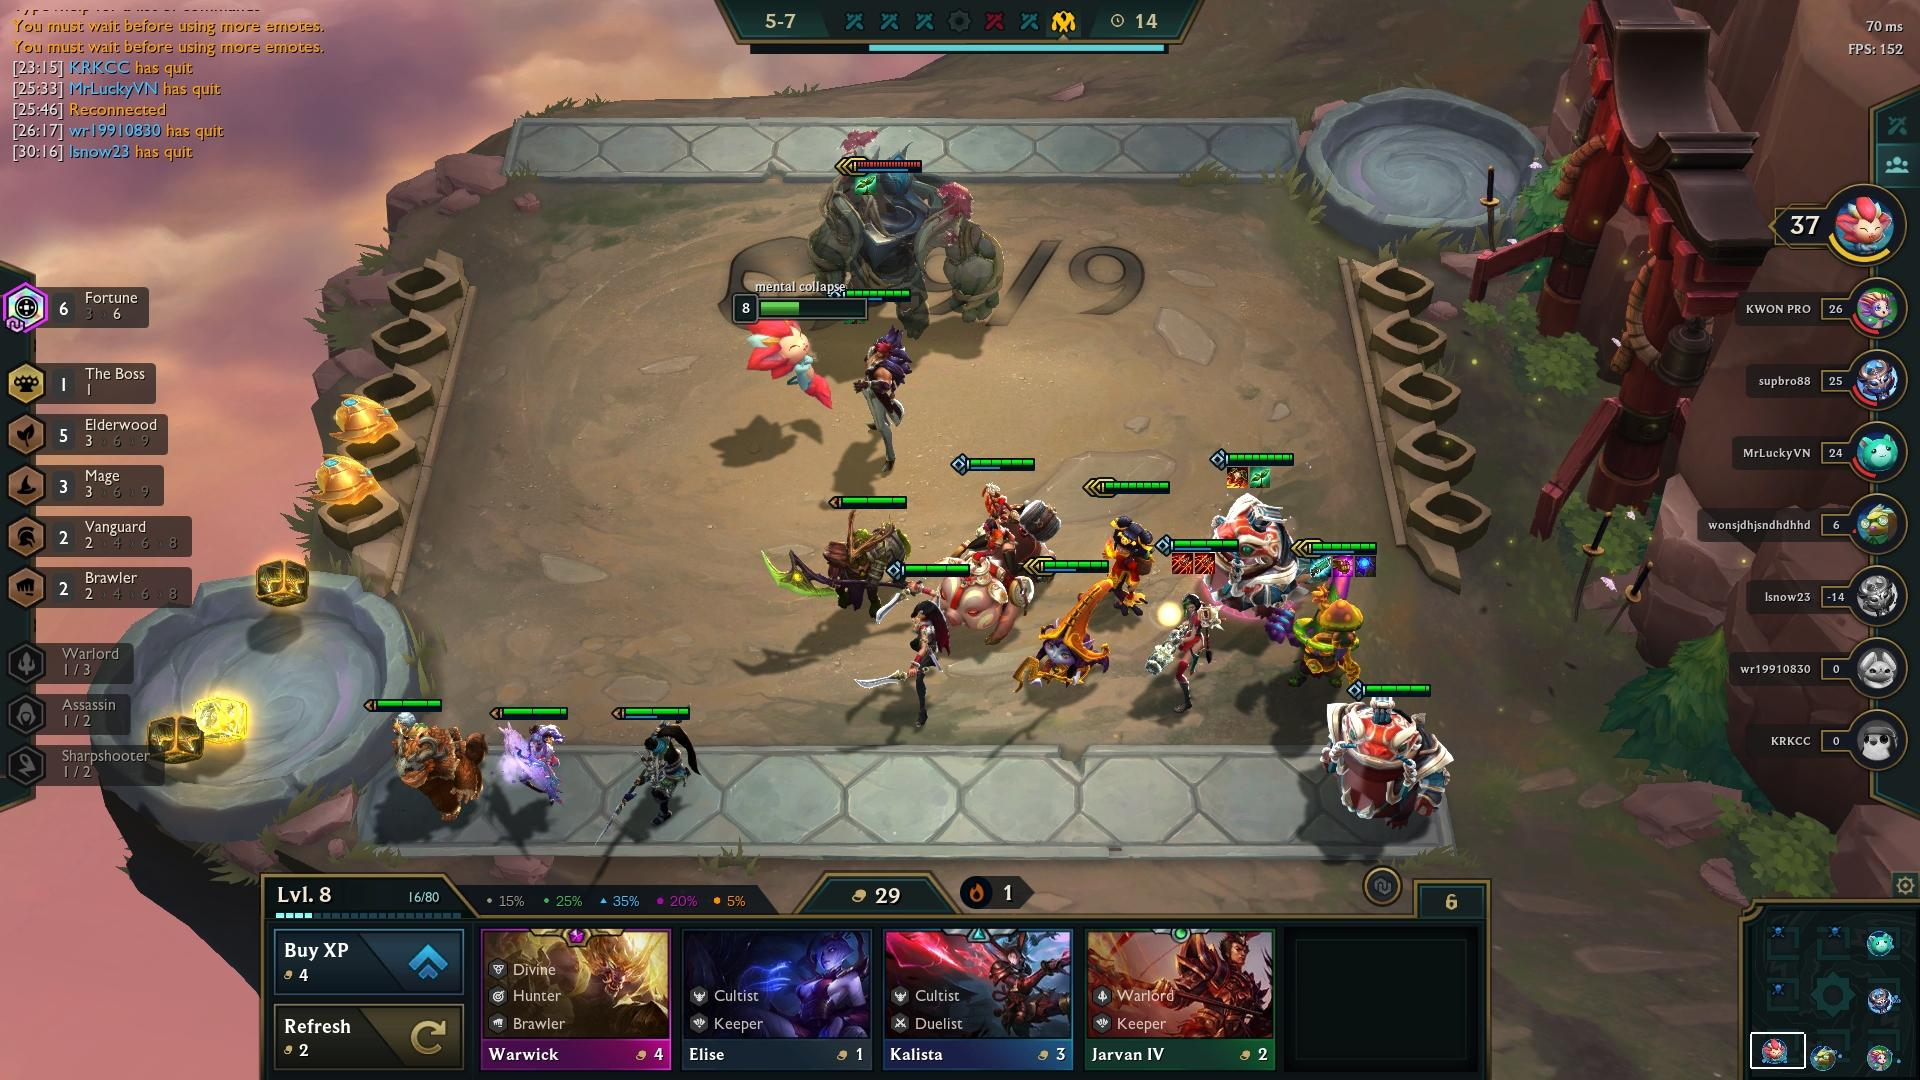1star_hecarim: (742, 484, 926, 669)
1star_kindred: (477, 684, 585, 858)
1star_nunu: (353, 679, 498, 857)
1star_xinzhao: (589, 688, 709, 869)
2star_jinx: (1124, 529, 1257, 741)
2star_katarina: (836, 553, 978, 760)
2star_sejuani: (924, 436, 1069, 655)
2star_sett: (808, 280, 926, 504)
2star_tahmkench: (1280, 665, 1472, 866), (1193, 440, 1313, 626)
2star_tahmkench_chosen: (1193, 439, 1317, 630)
3star_annie: (1073, 465, 1182, 632)
3star_lulu: (998, 547, 1127, 741)
3star_veigar: (1234, 527, 1393, 765)
item_bluebuff: (1352, 550, 1385, 582)
item_elderwood: (847, 165, 884, 202), (1246, 458, 1276, 495)
item_gunblade: (1305, 547, 1337, 580)
item_jeweledgauntlet: (1331, 549, 1360, 580)
item_runaan: (1191, 549, 1222, 576), (1167, 549, 1197, 575)
item_sunfire: (1221, 458, 1253, 492)
trait_assassin1: (1, 684, 196, 738)
trait_brawler2: (1, 560, 196, 615)
trait_elderwood5: (1, 405, 196, 459)
trait_fortune6: (1, 282, 196, 336)
trait_fortune_chosen: (1, 280, 54, 338)
trait_mage3: (1, 460, 196, 514)
trait_sharpshooter1: (1, 738, 196, 793)
trait_theboss1: (1, 357, 196, 411)
trait_vanguard2: (1, 510, 196, 564)
trait_warlord1: (1, 636, 196, 688)
